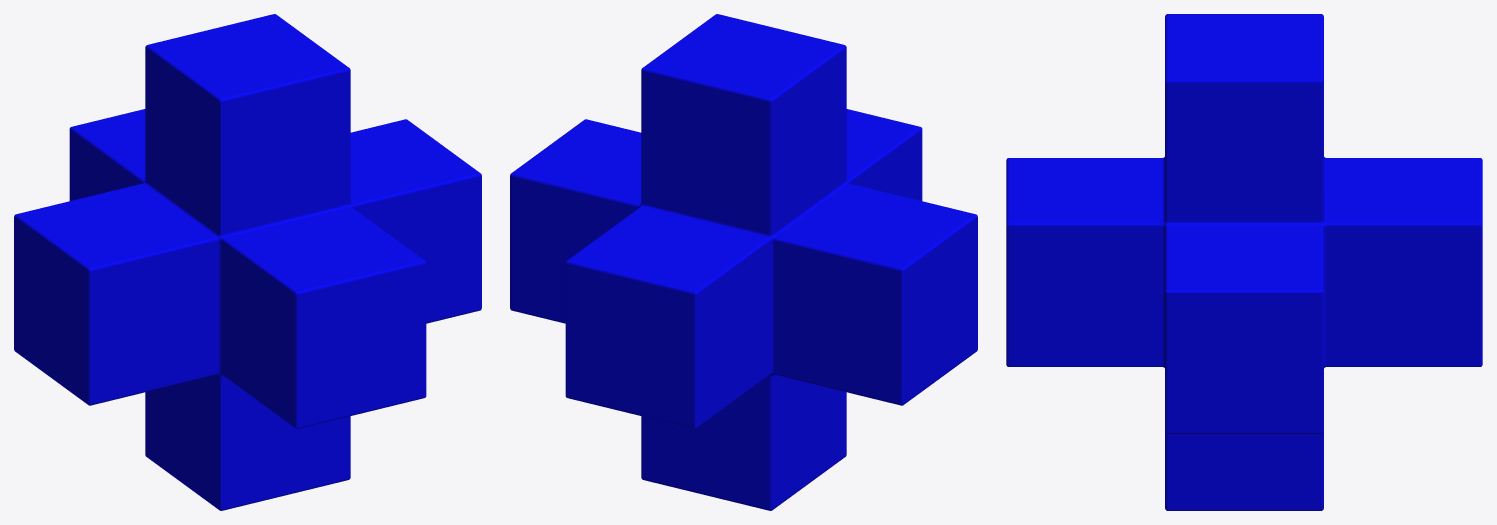
The model's file is Testplus.obj.
3 views of the same model, side by side, from view 1: azimuth 30°, elevation 25°; view 2: azimuth 150°, elevation 25°; view 3: azimuth 270°, elevation 25° (orthographic). The views are drawn at different scales.
Visible parts, largest first — view 1: Testplus; view 2: Testplus; view 3: Testplus.
Part boxes in pixels (box(x1,y1,x2,y2)): Testplus: box(14, 14, 481, 510); Testplus: box(510, 14, 977, 510); Testplus: box(1006, 14, 1482, 510).
Bounding box in the file's own units: 1 × 1 × 1.
